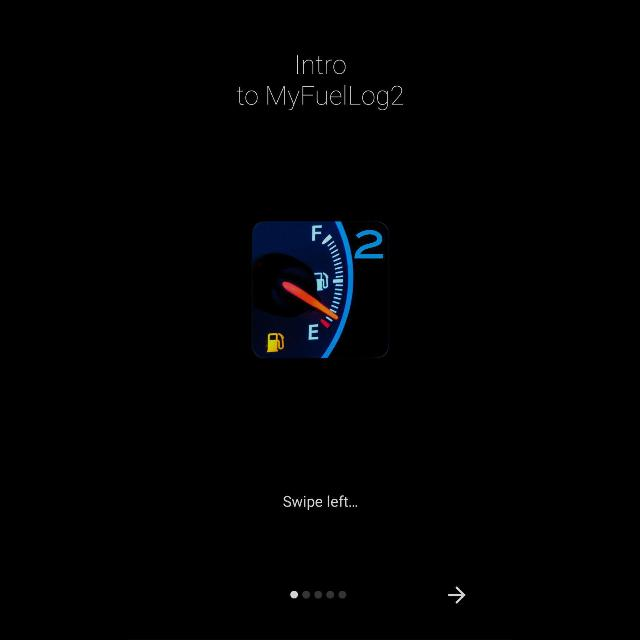icon: (448, 586, 464, 604)
image: (252, 222, 391, 358)
pageindicator: (290, 591, 346, 599)
text: (235, 85, 402, 111), (282, 496, 358, 510), (296, 55, 346, 75)
